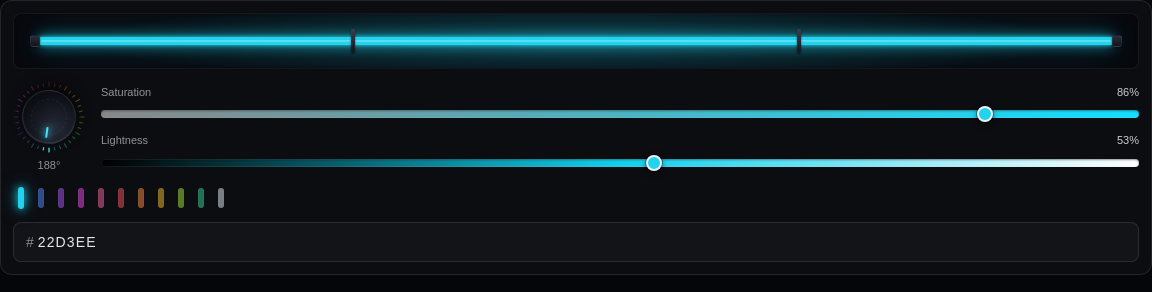
Test: ColorPicker › applies three digits on Enter
Replace the text in the field named "Hex color" with "#f0a" at [586, 242], box [34, 222, 1138, 260]
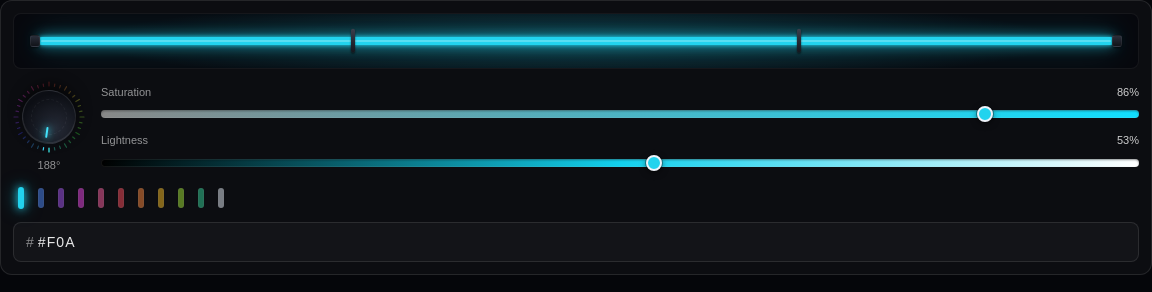
Press Enter in the field named "Hex color", box [34, 222, 1138, 260]
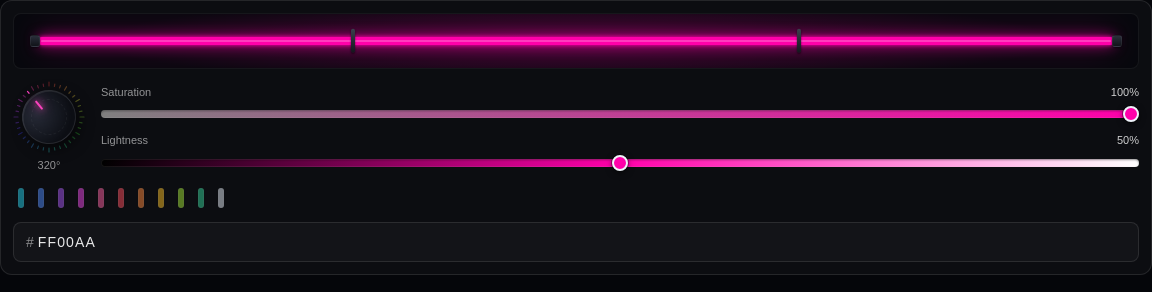
Check: the field named "Hex color" holds "FF00AA", box [34, 222, 1138, 260]
